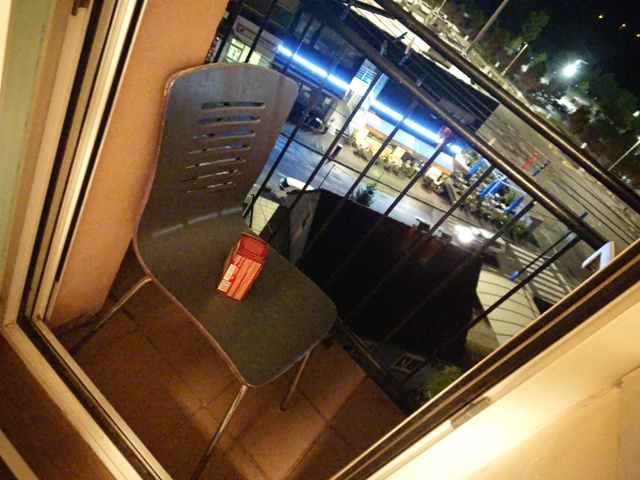Franck Apple Cinnamon Tea 60g: (211, 229, 272, 304)
